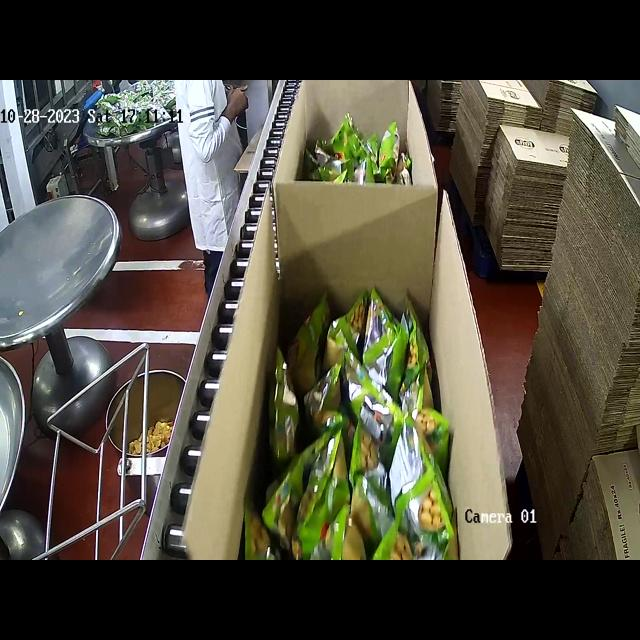yogurt: (244, 285, 457, 558), (312, 113, 413, 190)
